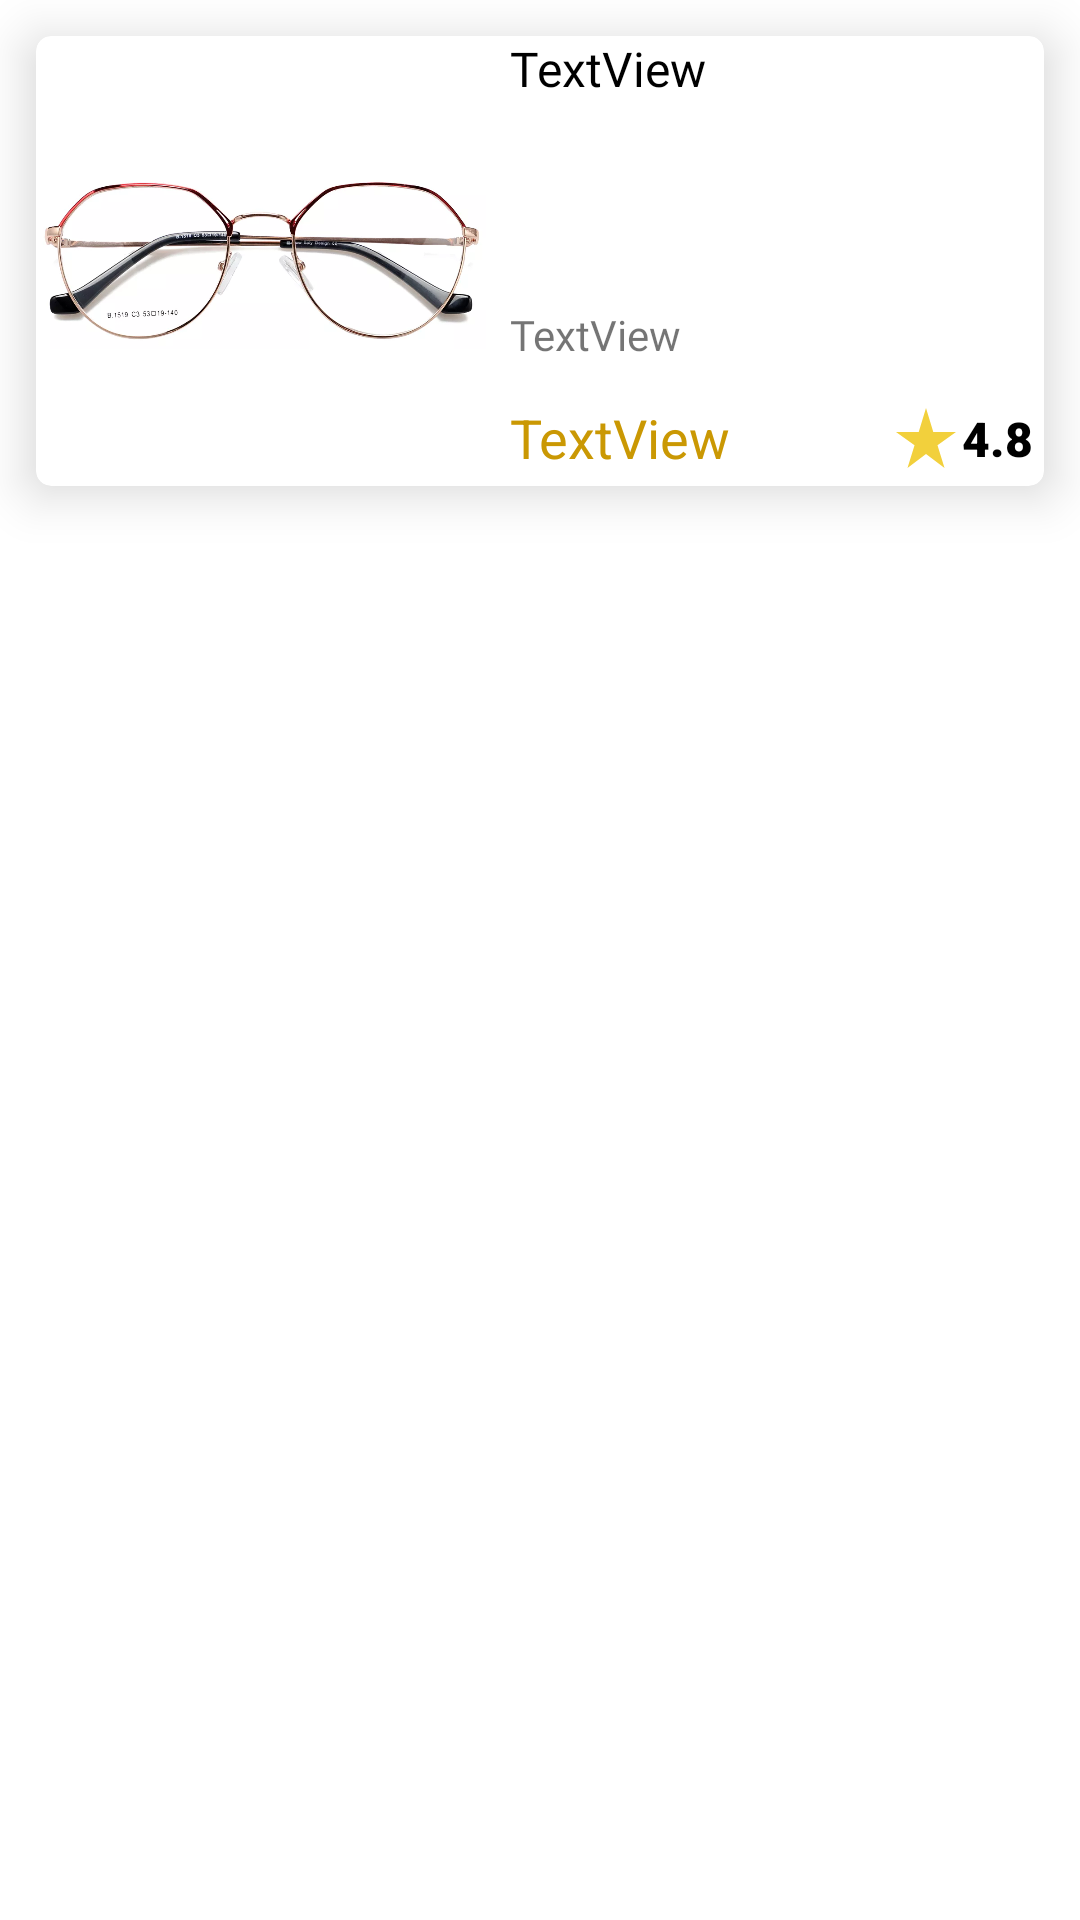

Icon click points for this 1080*1920 phone screenshot, format (x=x, y=y):
star rate: (x=926, y=438)
